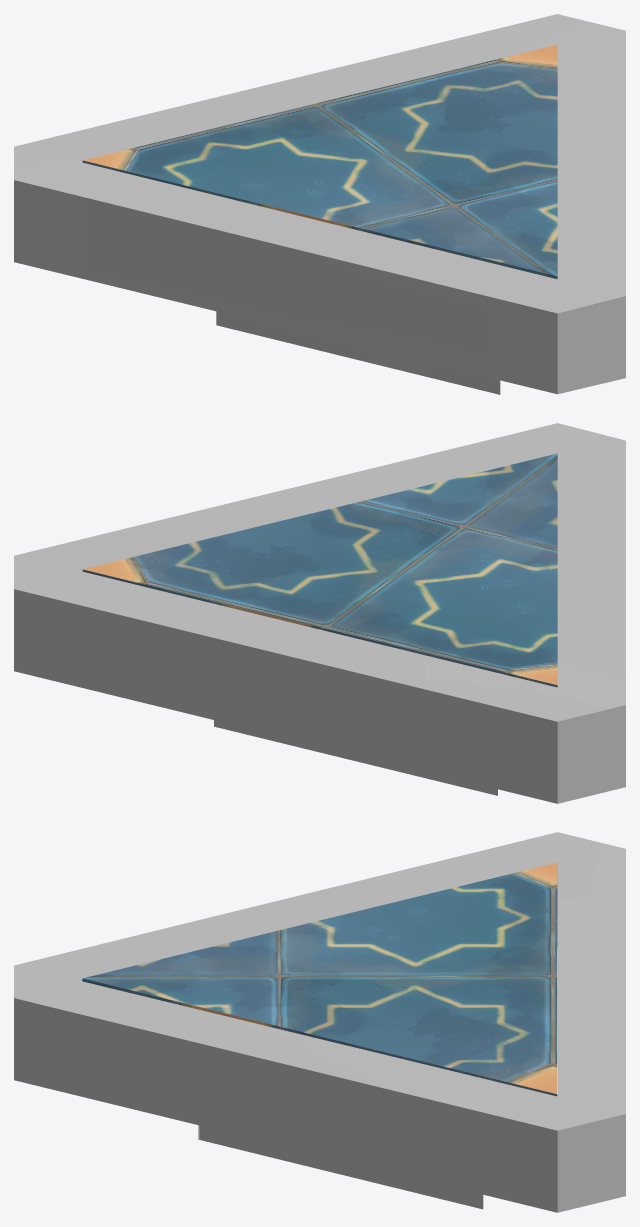
The picture shows the model from 3 angles, top to bottom: view 1: azimuth 30°, elevation 25°; view 2: azimuth 150°, elevation 25°; view 3: azimuth 270°, elevation 25°; orthographic projection.
Parts seen in each view (by area): view 1: SM_BB_T4_Floor_Triangle_Med_01_LOD0; view 2: SM_BB_T4_Floor_Triangle_Med_01_LOD0; view 3: SM_BB_T4_Floor_Triangle_Med_01_LOD0.
Part boxes in pixels (<box>): SM_BB_T4_Floor_Triangle_Med_01_LOD0: <box>14,14,625,394</box>; SM_BB_T4_Floor_Triangle_Med_01_LOD0: <box>14,423,625,803</box>; SM_BB_T4_Floor_Triangle_Med_01_LOD0: <box>14,832,625,1212</box>.
Bounding box in the file's own units: 1.93 × 0.4866 × 1.67.
